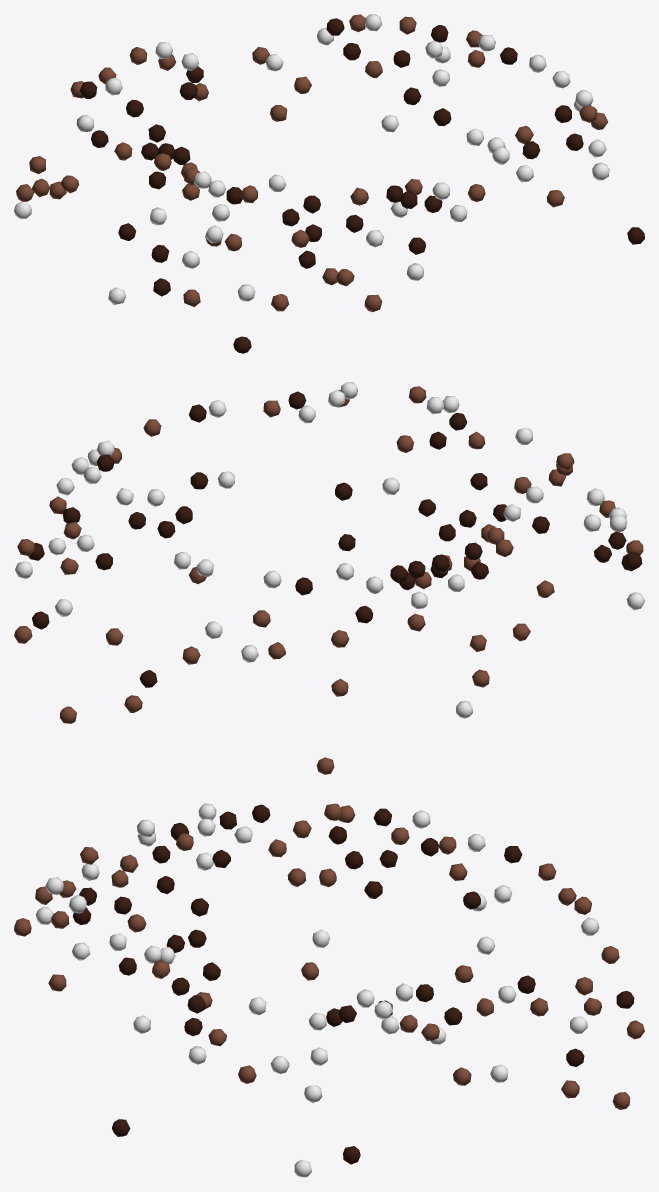
Rendered from chocolateOrbs.glb.
3 views of the same model, one above another, from view 1: azimuth 30°, elevation 25°; view 2: azimuth 150°, elevation 25°; view 3: azimuth 270°, elevation 25° (orthographic). The views are drawn at different scales.
Visible parts, largest first — view 1: chocolateMilk, chocolateWhite, chocolateDark; view 2: chocolateWhite, chocolateMilk, chocolateDark; view 3: chocolateMilk, chocolateWhite, chocolateDark.
Part boxes in pixels (left/top/right/bottom): chocolateMilk: left=16, top=14, right=607, bottom=311; chocolateWhite: left=14, top=14, right=609, bottom=304; chocolateDark: left=79, top=18, right=644, bottom=353; chocolateWhite: left=15, top=382, right=644, bottom=718; chocolateMilk: left=14, top=386, right=643, bottom=774; chocolateDark: left=28, top=391, right=642, bottom=687; chocolateMilk: left=14, top=803, right=644, bottom=1109; chocolateWhite: left=35, top=803, right=599, bottom=1177; chocolateDark: left=72, top=804, right=634, bottom=1164.
Bounding box in the file's own units: 0.1515 × 0.0441 × 0.1475.
